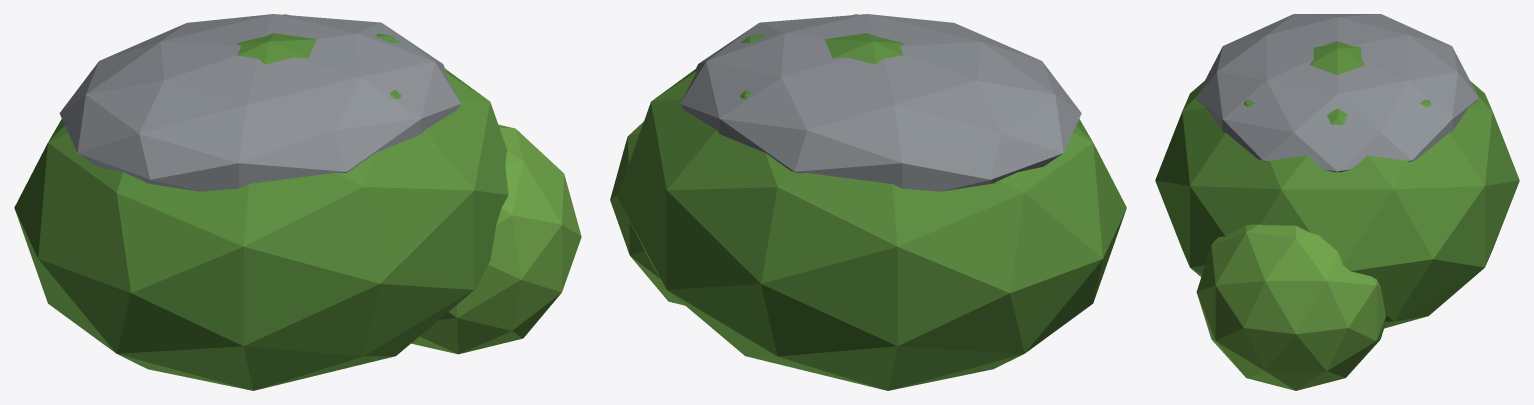
The model's file is M17_MossyRock.fbx.
The picture shows the model from 3 angles, left to right: view 1: azimuth 30°, elevation 25°; view 2: azimuth 150°, elevation 25°; view 3: azimuth 270°, elevation 25°; orthographic projection. The views are drawn at different scales.
Visible parts, largest first — view 1: M17_MossyRock; view 2: M17_MossyRock; view 3: M17_MossyRock.
Boxes of the visible parts, <box> form: M17_MossyRock: <box>14,14,581,390</box>; M17_MossyRock: <box>610,14,1126,390</box>; M17_MossyRock: <box>1155,14,1519,390</box>.
Bounding box in the file's own units: 5.74 × 3.56 × 4.4.
Materials: 1 (1 with a texture image).
